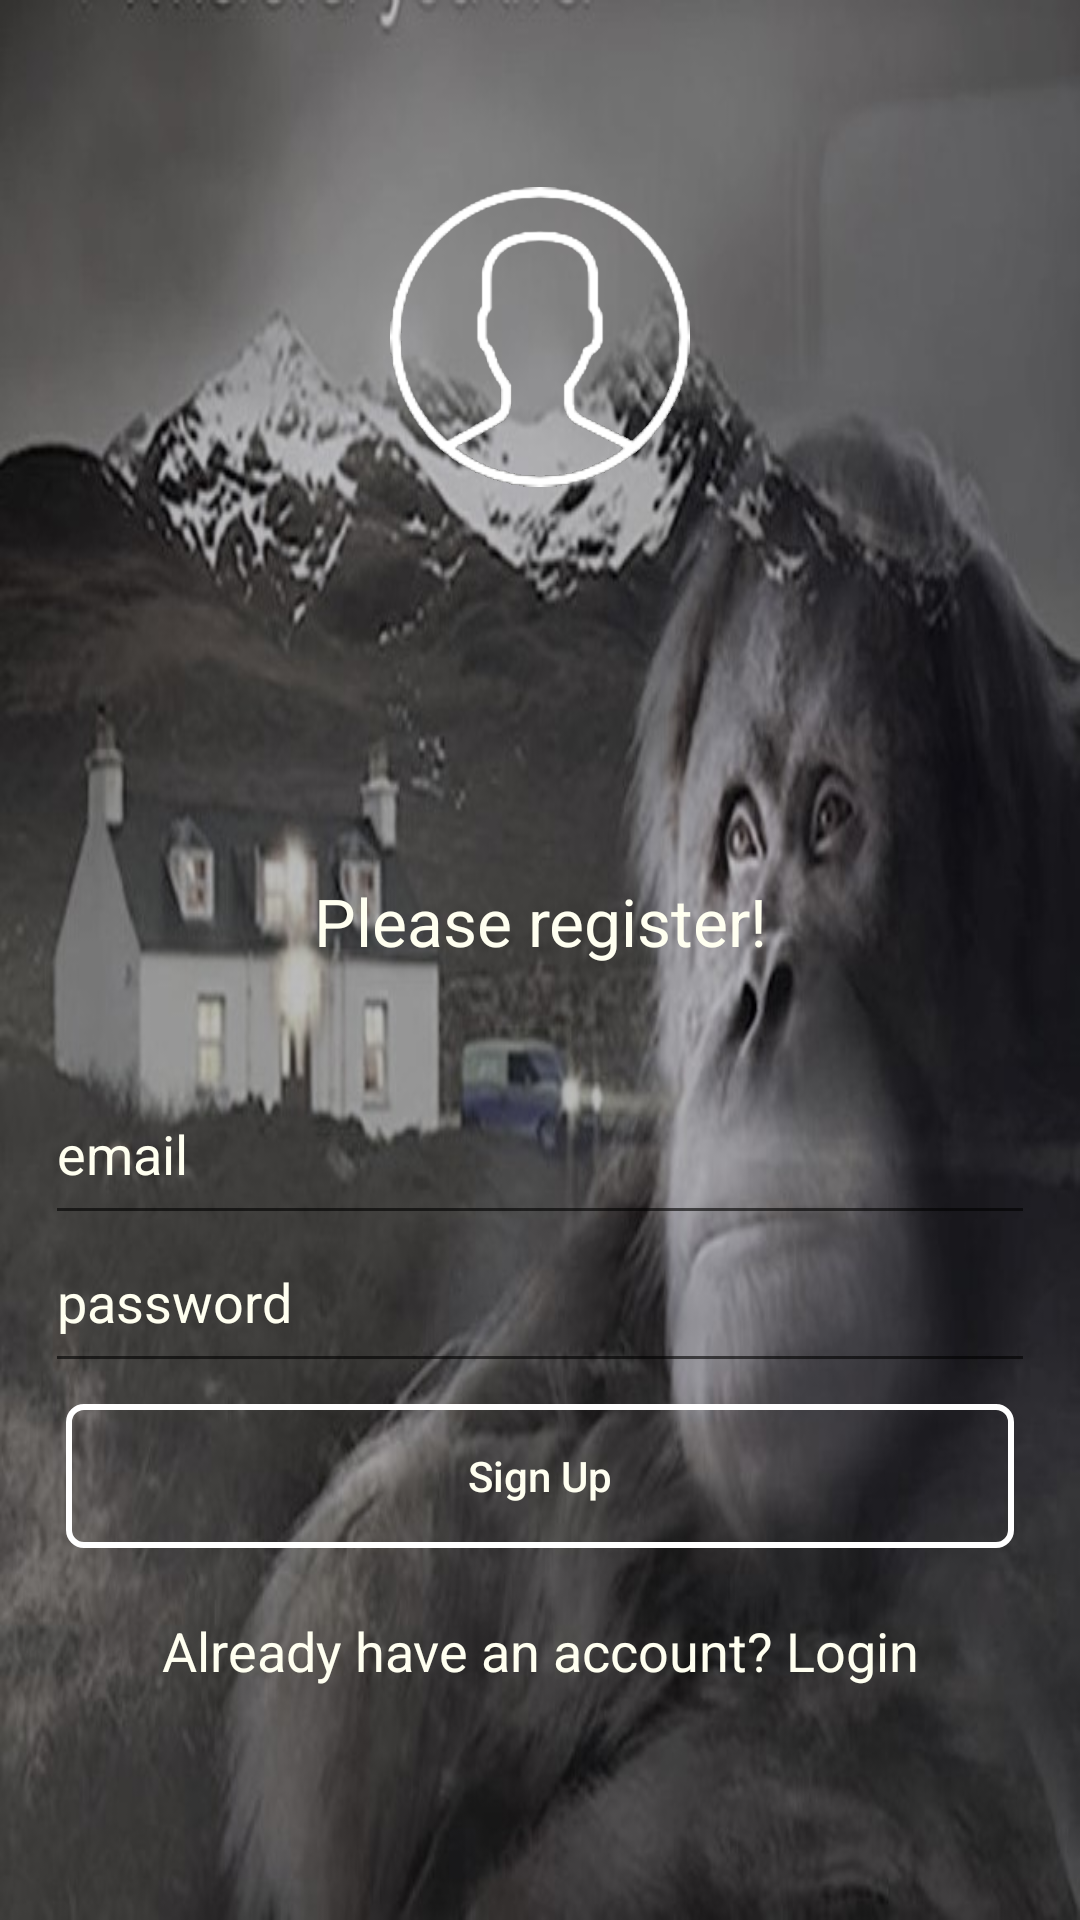

Where to tap for icons on this 1080 × 1920 app screen, as (x=x, y=y):
user: (x=540, y=337)
